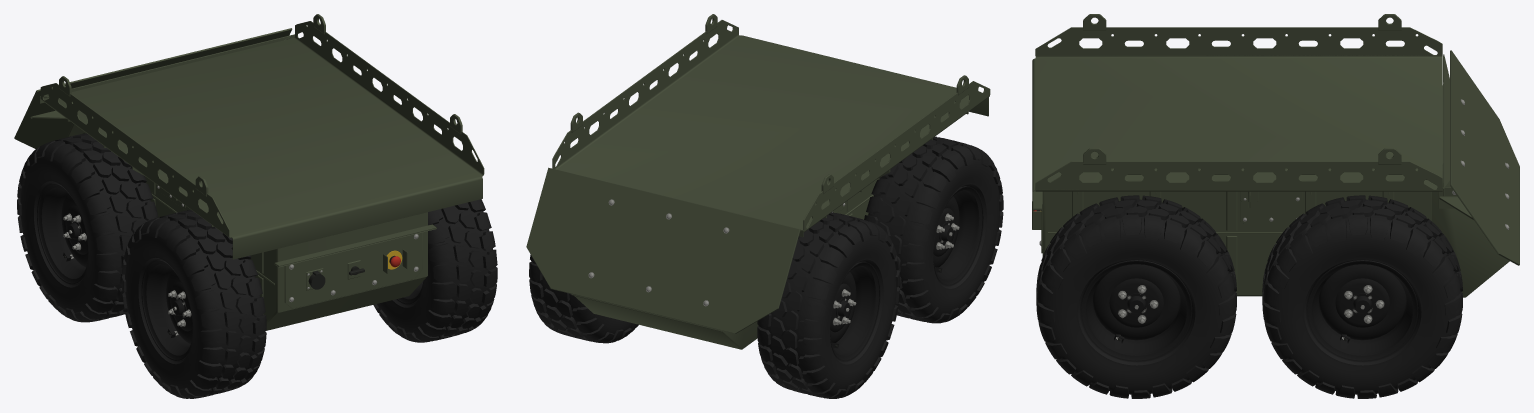
The model's file is zmiy_logistic.fbx.
The picture shows the model from 3 angles, left to right: view 1: azimuth 30°, elevation 25°; view 2: azimuth 150°, elevation 25°; view 3: azimuth 270°, elevation 25°; orthographic projection. The views are drawn at different scales.
Visible parts, largest first — view 1: Deck, Wheel_RL, Wheel_FL, Wheel_RR, Hull, Rear, FrontGuard, Nose; view 2: Deck, FrontGuard, Wheel_FL, Wheel_RL, Wheel_FR, Nose, Hull; view 3: Deck, Wheel_FR, Wheel_RR, Hull, FrontGuard, Nose, Rear.
Part boxes in pixels (x1=…): Deck: x1=40, y1=14, x2=484, y2=259; Wheel_RL: x1=121, y1=210, x2=266, y2=398; Wheel_FL: x1=17, y1=133, x2=158, y2=322; Wheel_RR: x1=373, y1=199, x2=497, y2=342; Hull: x1=144, y1=176, x2=427, y2=330; Rear: x1=274, y1=224, x2=436, y2=308; FrontGuard: x1=14, y1=28, x2=292, y2=148; Nose: x1=40, y1=34, x2=294, y2=137; Deck: x1=552, y1=14, x2=990, y2=232; FrontGuard: x1=526, y1=167, x2=800, y2=333; Wheel_FL: x1=757, y1=212, x2=900, y2=398; Wheel_RL: x1=864, y1=136, x2=1003, y2=323; Wheel_FR: x1=529, y1=254, x2=638, y2=343; Nose: x1=571, y1=229, x2=803, y2=349; Hull: x1=758, y1=178, x2=879, y2=325; Deck: x1=1032, y1=14, x2=1442, y2=213; Wheel_FR: x1=1262, y1=195, x2=1462, y2=398; Wheel_RR: x1=1036, y1=195, x2=1236, y2=398; Hull: x1=1042, y1=191, x2=1431, y2=296; FrontGuard: x1=1438, y1=50, x2=1519, y2=265; Nose: x1=1431, y1=54, x2=1509, y2=297; Rear: x1=1032, y1=191, x2=1042, y2=253.
Size of what is drawn, in the model's own units: 1.42 by 1.05 by 1.88.
6 materials, 1 textured.
